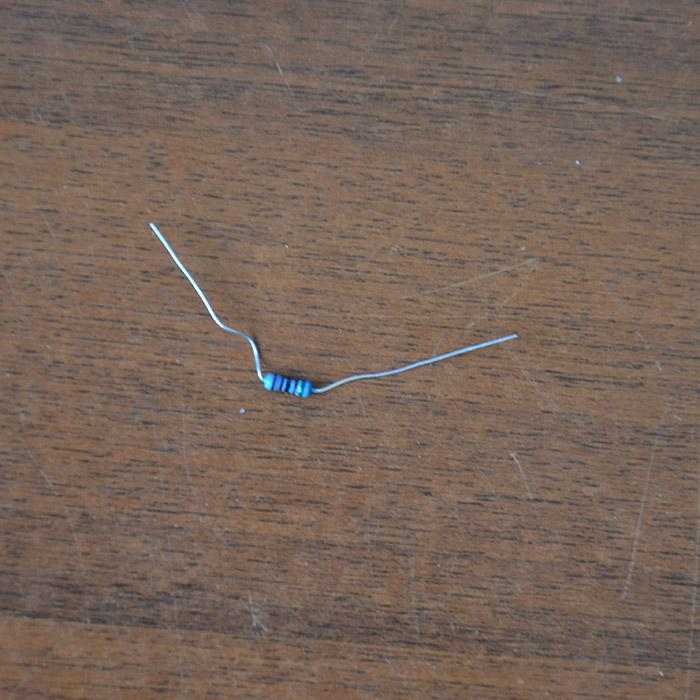resistor: (261, 367, 319, 403)
